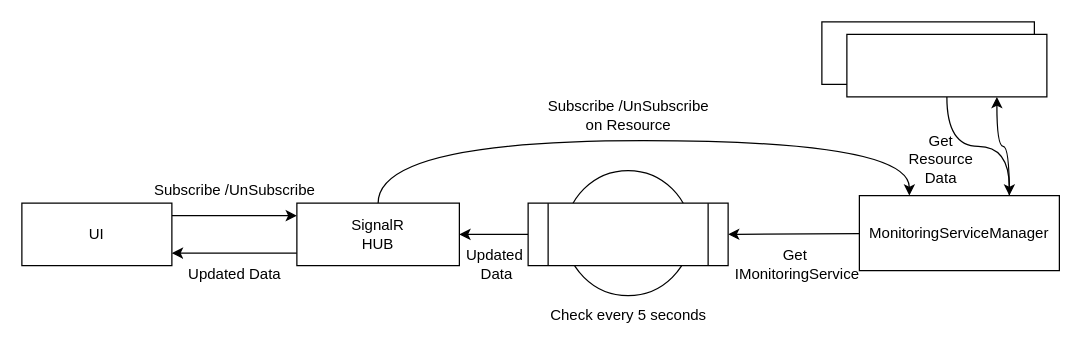
Image size: 1081x350. Some labels were removed from this diagram. Each missing label, with the centre of its shape:
"ASP.net Core Background Service" goes at point 627,234.
"IMonitoringService" goes at point 946,65.
